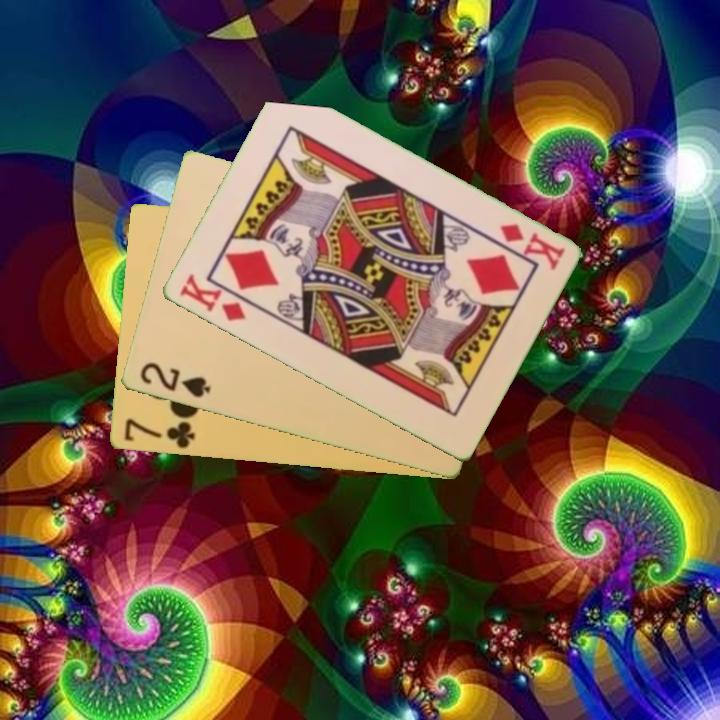2s: (136, 359, 214, 401)
7c: (120, 415, 197, 452)
Kd: (175, 270, 248, 325), (495, 220, 568, 273)
